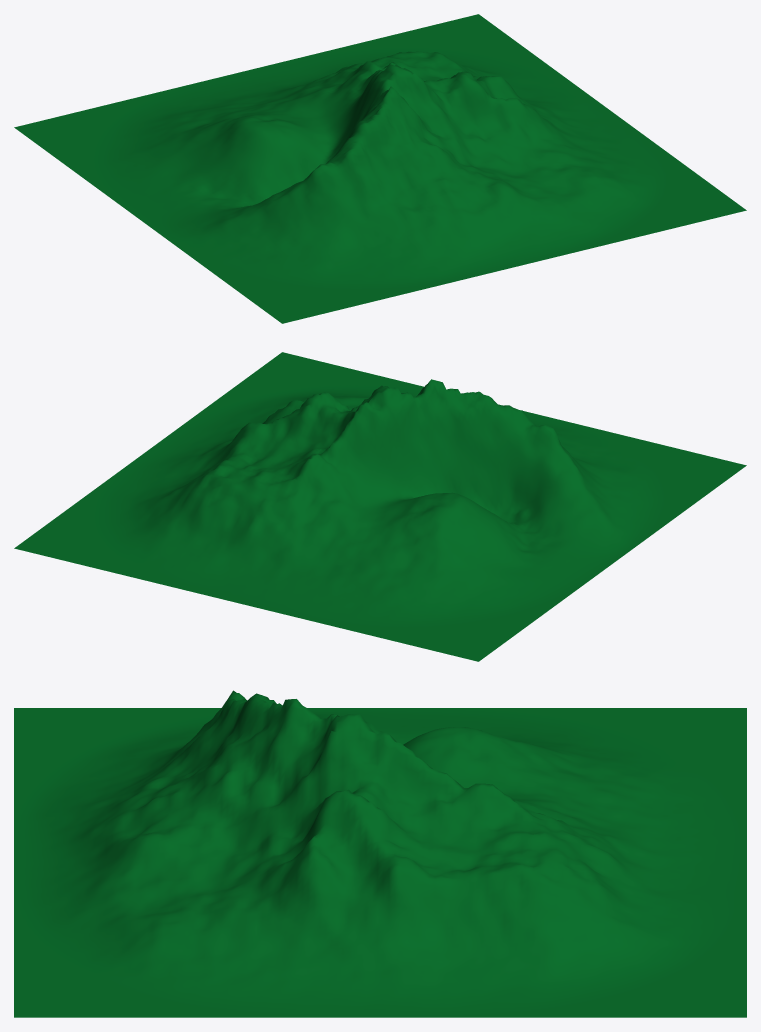
File: distlant_island2.glb
The picture shows the model from 3 angles, top to bottom: view 1: azimuth 30°, elevation 25°; view 2: azimuth 150°, elevation 25°; view 3: azimuth 270°, elevation 25°; orthographic projection. The views are drawn at different scales.
Visible parts, largest first — view 1: Landscape.001; view 2: Landscape.001; view 3: Landscape.001.
Boxes of the visible parts, box(x1,y1,x2,y2) form: Landscape.001: box(14, 14, 746, 323); Landscape.001: box(14, 352, 746, 661); Landscape.001: box(14, 690, 746, 1017).
Bounding box in the file's own units: 2 × 0.4531 × 2.
